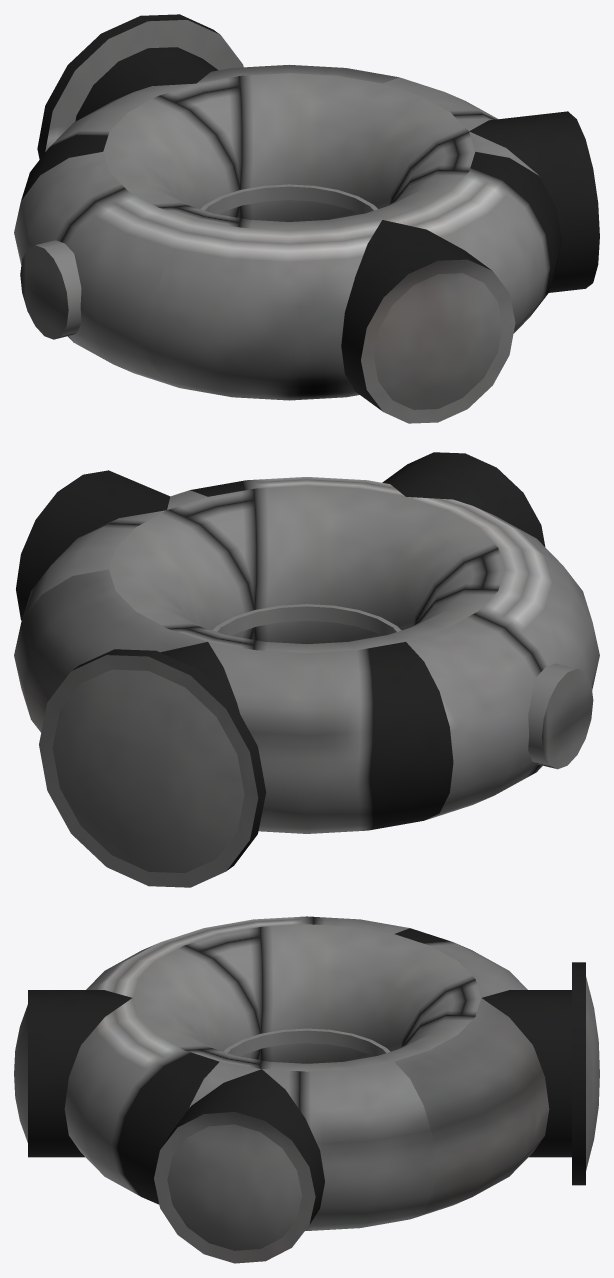
Rendered from ye85_avionics_s0_1.obj.
3 renders of one model, top to bottom at view 1: azimuth 30°, elevation 25°; view 2: azimuth 150°, elevation 25°; view 3: azimuth 270°, elevation 25°, orthographic. The views are drawn at different scales.
Visible parts, largest first — view 1: 1; view 2: 1; view 3: 1.
Boxes of the visible parts, x1,y1,x2,y2 form: 1: [14, 14, 599, 423]; 1: [14, 452, 599, 887]; 1: [14, 916, 599, 1263].
Bounding box in the file's own units: 0.9968 × 0.4 × 1.05.
